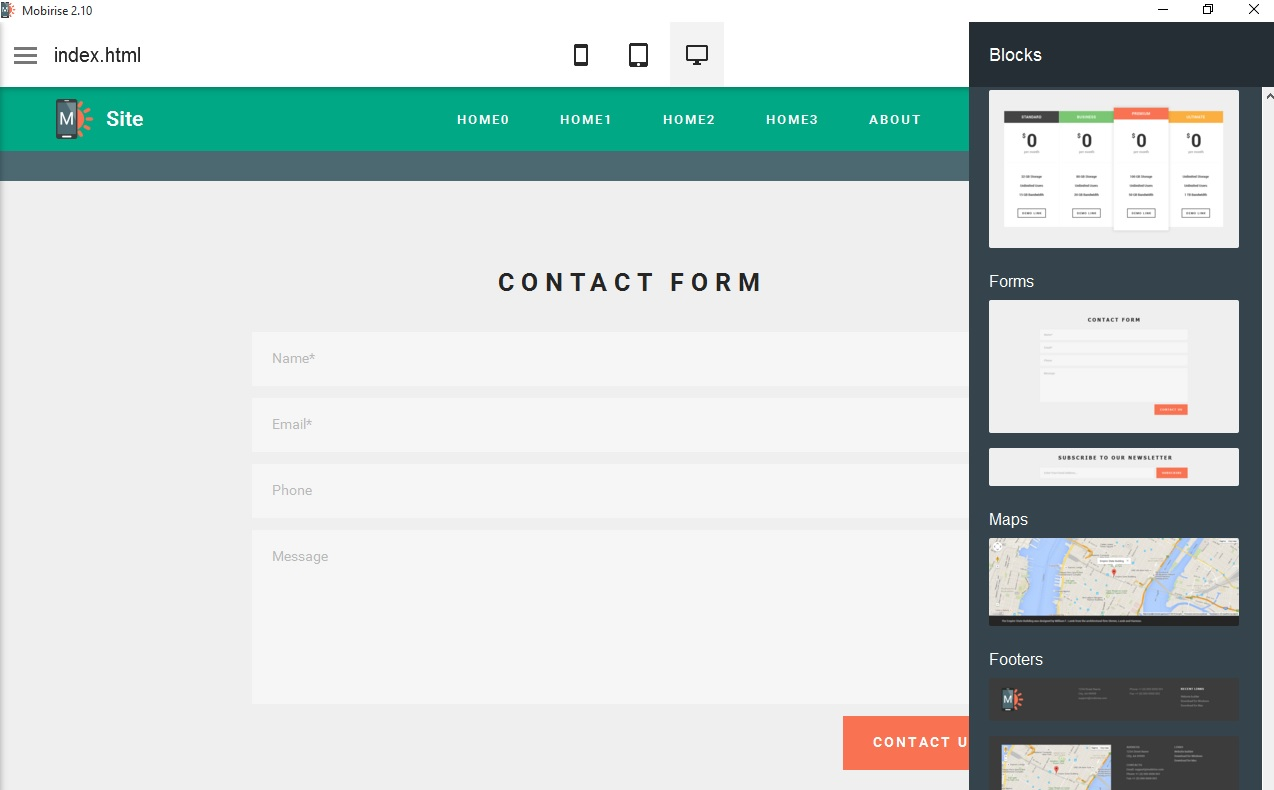_form_: (236, 264, 982, 577), (233, 477, 979, 790)
button: (840, 713, 975, 773)
field: (249, 527, 972, 709), (249, 397, 972, 457), (249, 462, 972, 520), (247, 329, 969, 387)
